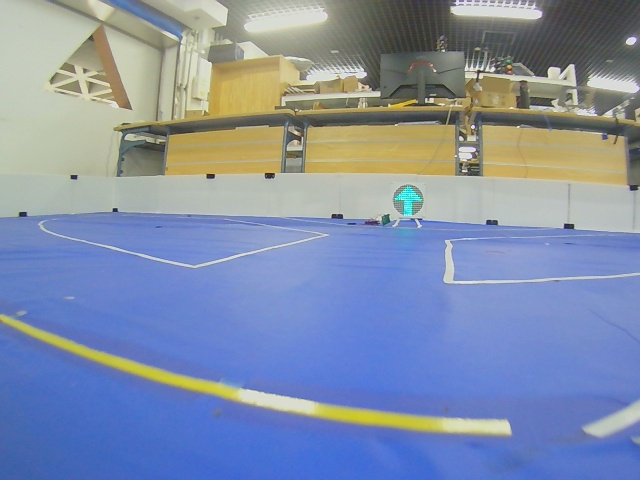straight_green: (393, 185, 424, 216)
